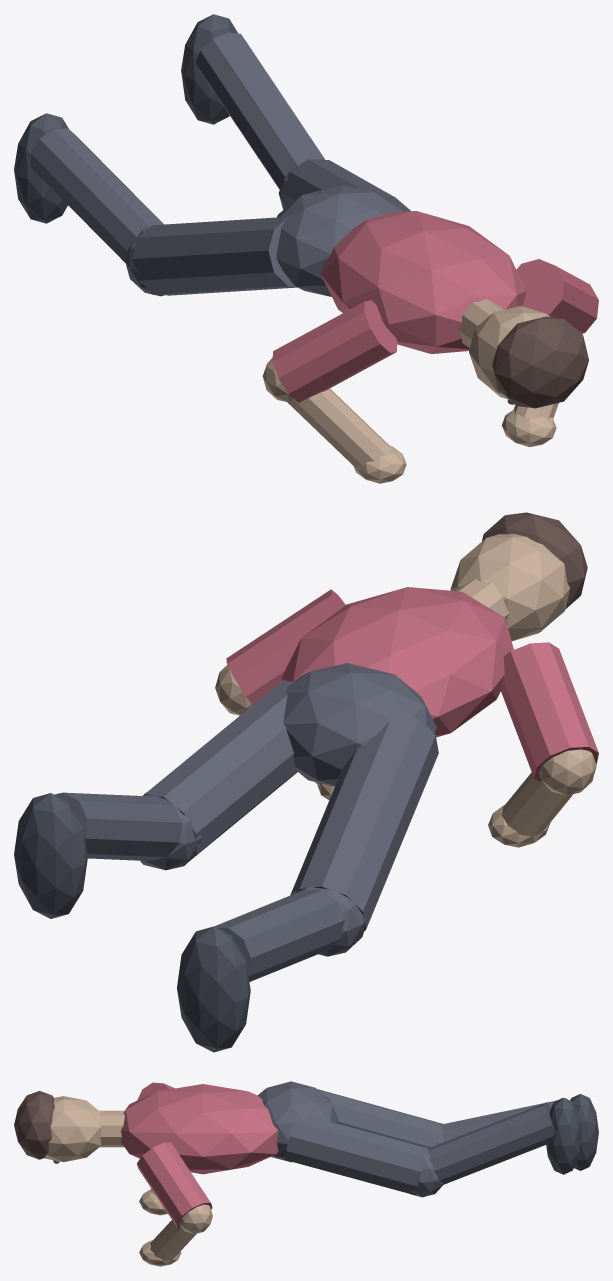
3 renders of one model, top to bottom at view 1: azimuth 30°, elevation 25°; view 2: azimuth 150°, elevation 25°; view 3: azimuth 270°, elevation 25°, orthographic. The views are drawn at different scales.
Visible parts, largest first — view 1: world; view 2: world; view 3: world.
Boxes of the visible parts, box(x1,y1,x2,y2) form: world: box(14, 14, 598, 483); world: box(14, 512, 598, 1052); world: box(14, 1081, 598, 1266).
Size of the model in its own units: 0.93 by 0.6103 by 2.06.
